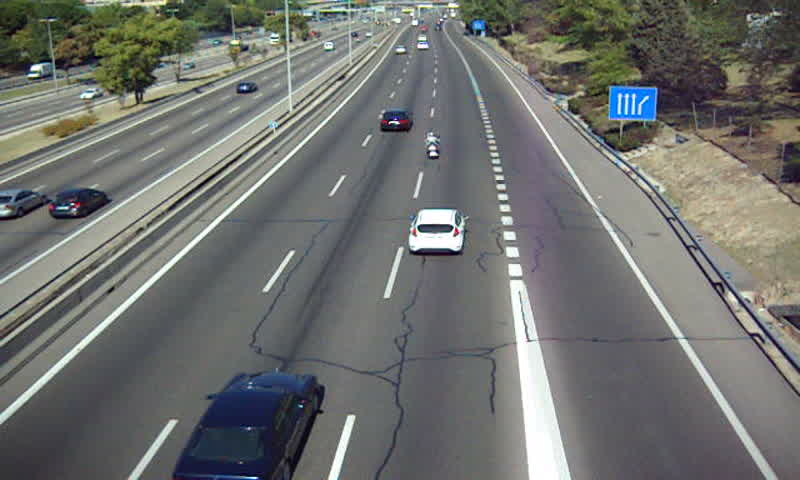car: (174, 370, 318, 480), (409, 209, 463, 254), (379, 110, 414, 132)
motorcycle: (423, 131, 442, 160)
